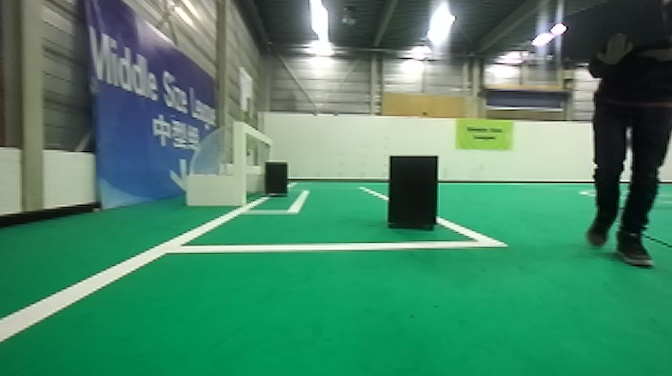goalpost: (231, 121, 248, 207), (256, 138, 274, 168)
